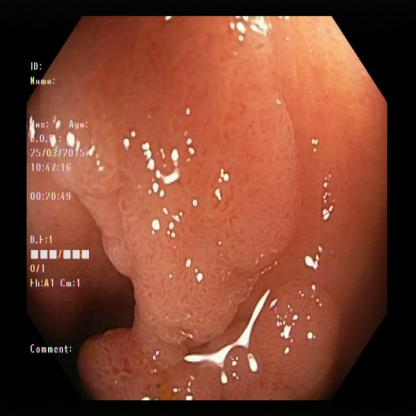Labels: (26, 61, 96, 357)
Polyps: (242, 261, 348, 387), (84, 327, 172, 405)
